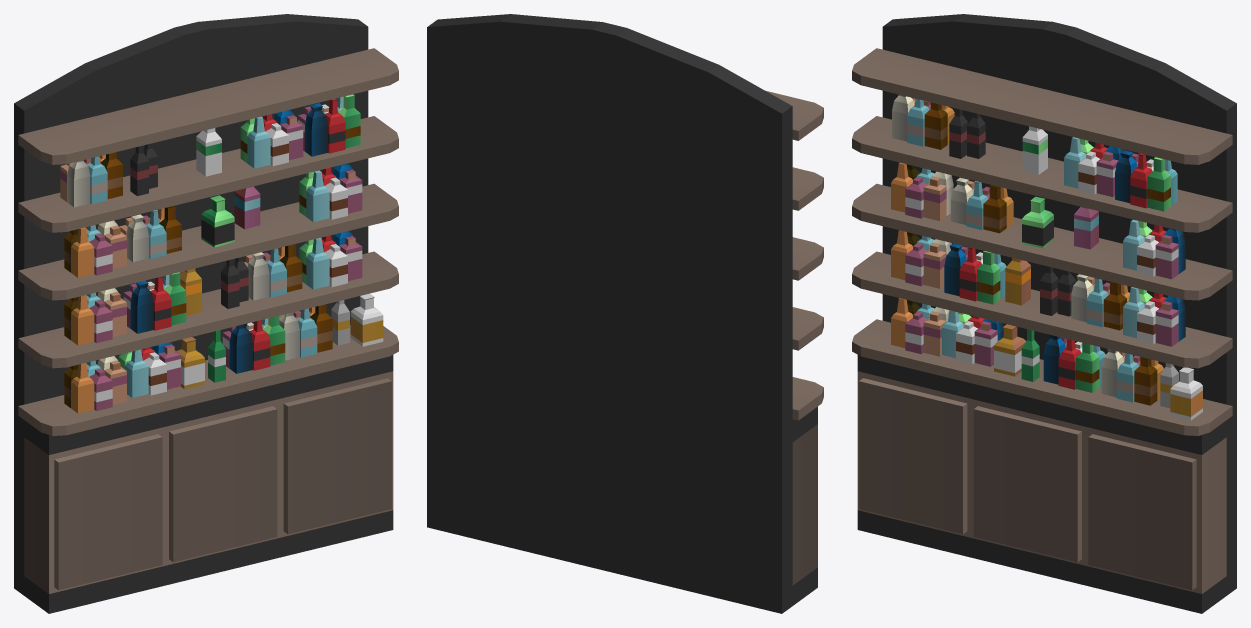
The model's file is B01_Buffet.fbx.
3 renders of one model, left to right at view 1: azimuth 30°, elevation 25°; view 2: azimuth 150°, elevation 25°; view 3: azimuth 330°, elevation 25°, orthographic. The views are drawn at different scales.
Visible parts, largest first — view 1: B01_Buffet; view 2: B01_Buffet; view 3: B01_Buffet.
Part boxes in pixels (left/top/right/bottom): B01_Buffet: left=14, top=14, right=398, bottom=613; B01_Buffet: left=427, top=14, right=823, bottom=613; B01_Buffet: left=852, top=14, right=1236, bottom=613.
Bounding box in the file's own units: 186 × 260 × 38.21.
